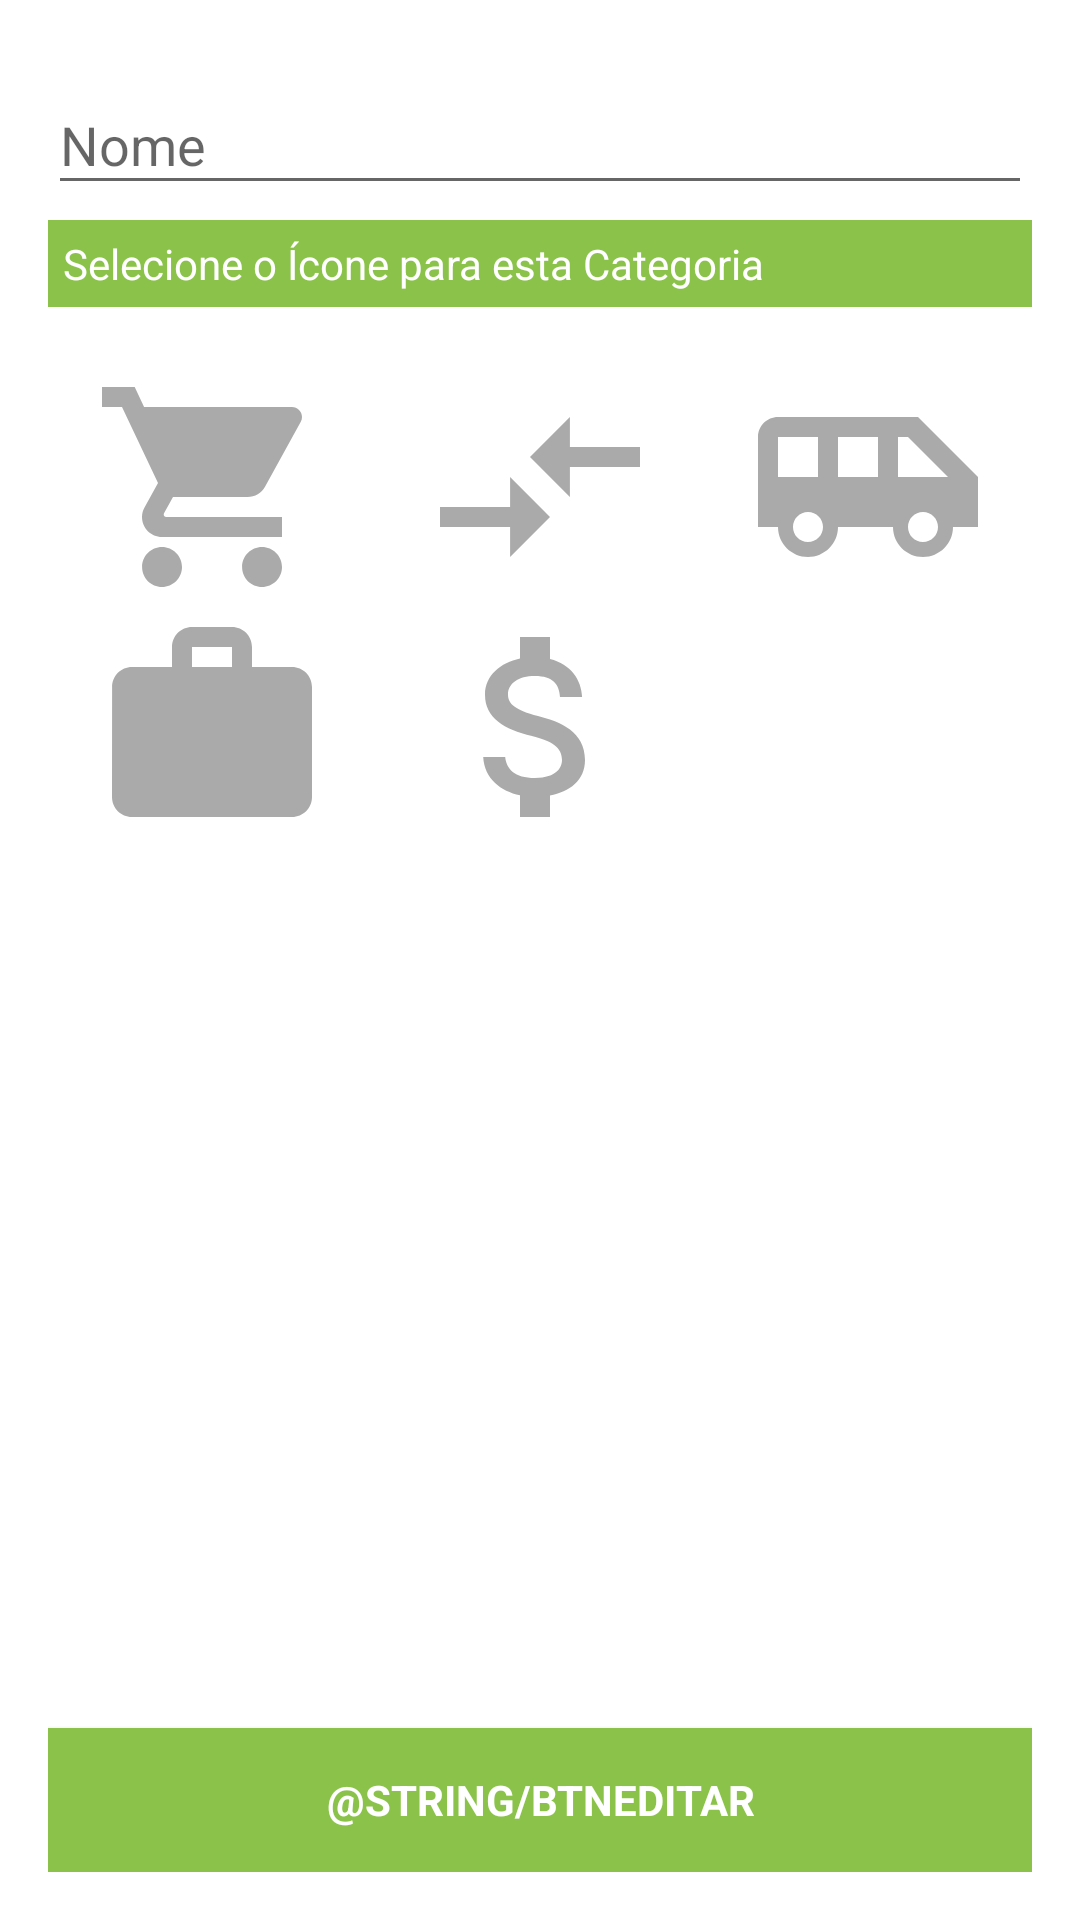

Screen size 1080px×1920px. Icon name, then its box in pixels as {"x1": x1, "y1": y1, "x2": x2, "y2": y2}:
categorias compras: {"x1": 102, "y1": 387, "x2": 302, "y2": 587}
categorias emprestimo: {"x1": 440, "y1": 417, "x2": 640, "y2": 557}
categorias padrao: {"x1": 483, "y1": 637, "x2": 585, "y2": 817}
categorias passeios: {"x1": 758, "y1": 417, "x2": 978, "y2": 557}
categorias trabalho: {"x1": 112, "y1": 627, "x2": 312, "y2": 817}
